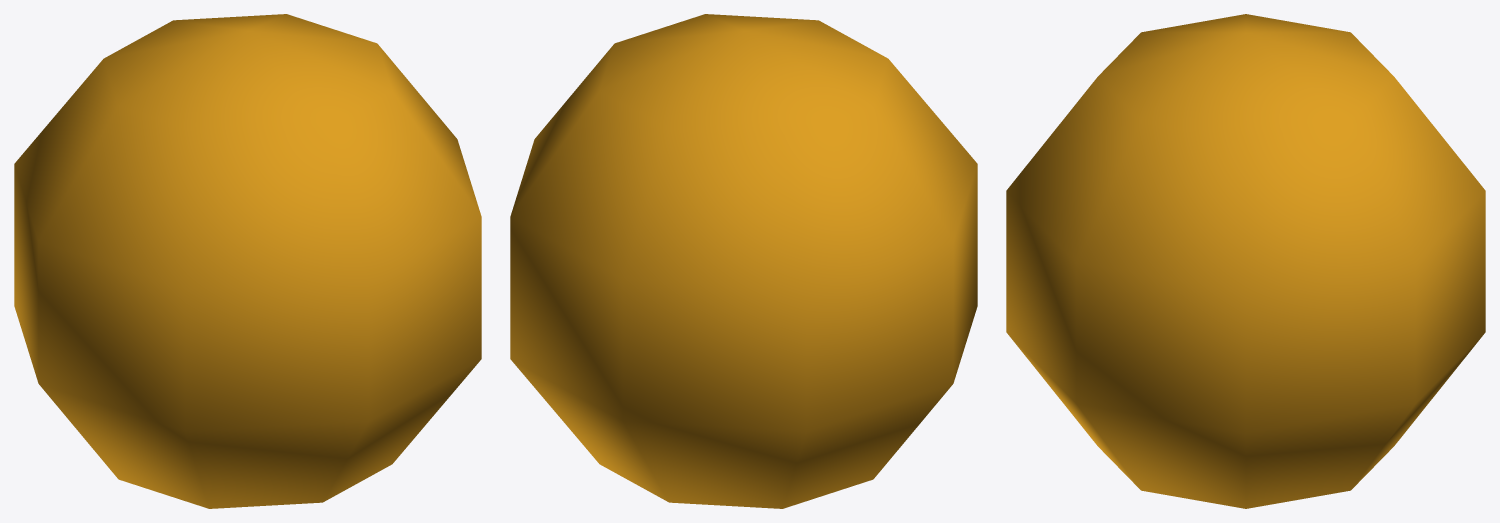
Rendered from bne_rpm_amber.dae.
3 renders of one model, left to right at view 1: azimuth 30°, elevation 25°; view 2: azimuth 150°, elevation 25°; view 3: azimuth 270°, elevation 25°, orthographic.
Parts seen in each view (by area): view 1: glow2; view 2: glow2; view 3: glow2.
Boxes of the visible parts, x1,y1,x2,y2 form: glow2: [14, 14, 481, 508]; glow2: [510, 14, 977, 508]; glow2: [1006, 14, 1485, 508].
Bounding box in the file's own units: 0.7608 × 0.7608 × 0.8.
